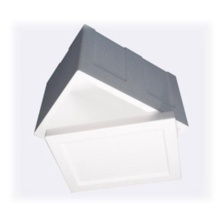foam_box: (25, 21, 195, 198)
